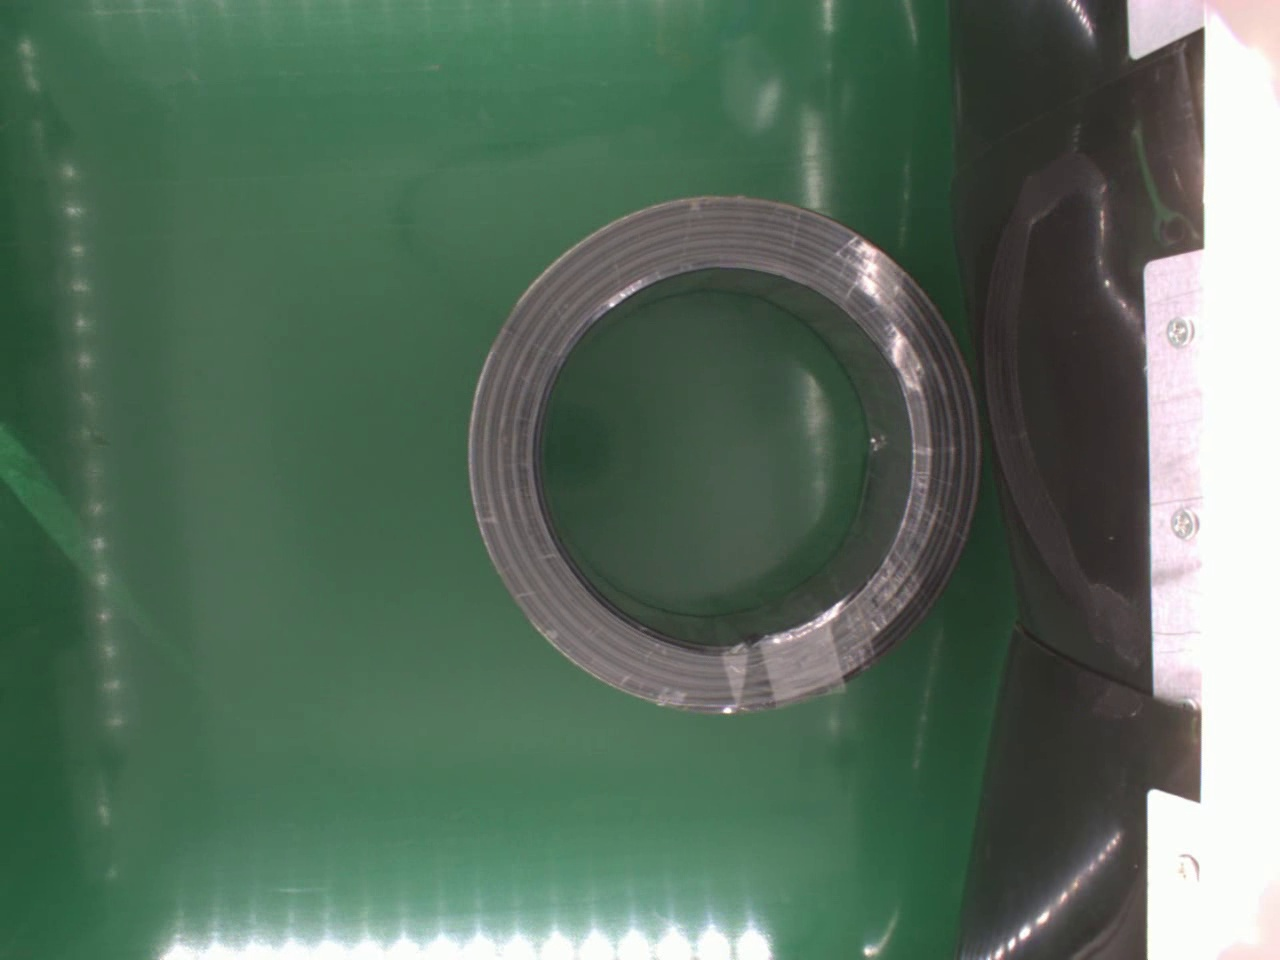black: (464, 189, 982, 725)
